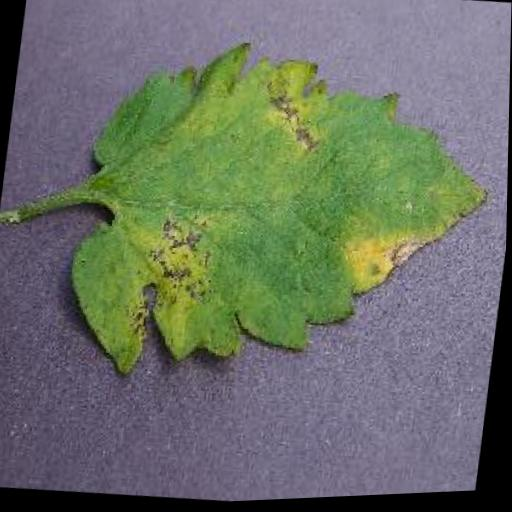Septoria: (56, 18, 511, 420)
